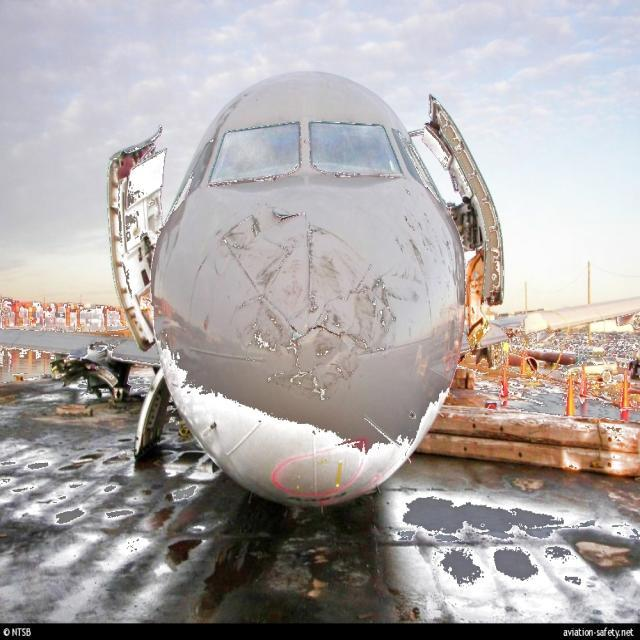crack: (286, 324, 385, 390), (265, 206, 315, 229)
